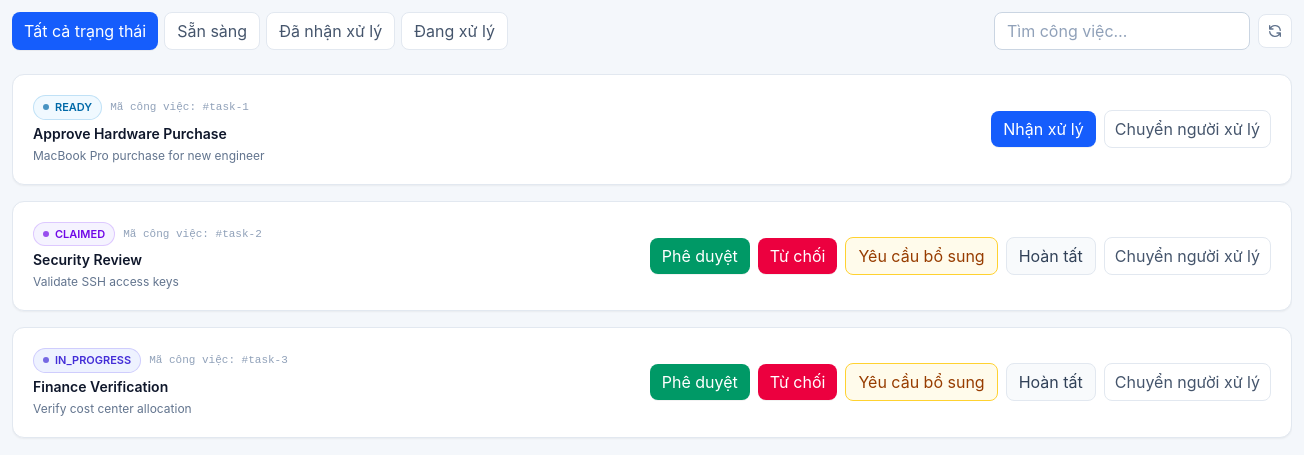
TaskInbox Component › filters tasks by status tabs (READY, CLAIMED, IN_PROGRESS)
Expected: the heading "Approve Hardware Purchase" is shown, [33,124,227,142]
Expected: the heading "Security Review" is shown, [33,251,142,268]
# Click READY filter
Click the button with test id "filter-ready" at {"x": 212, "y": 31}, box [164,12,260,50]
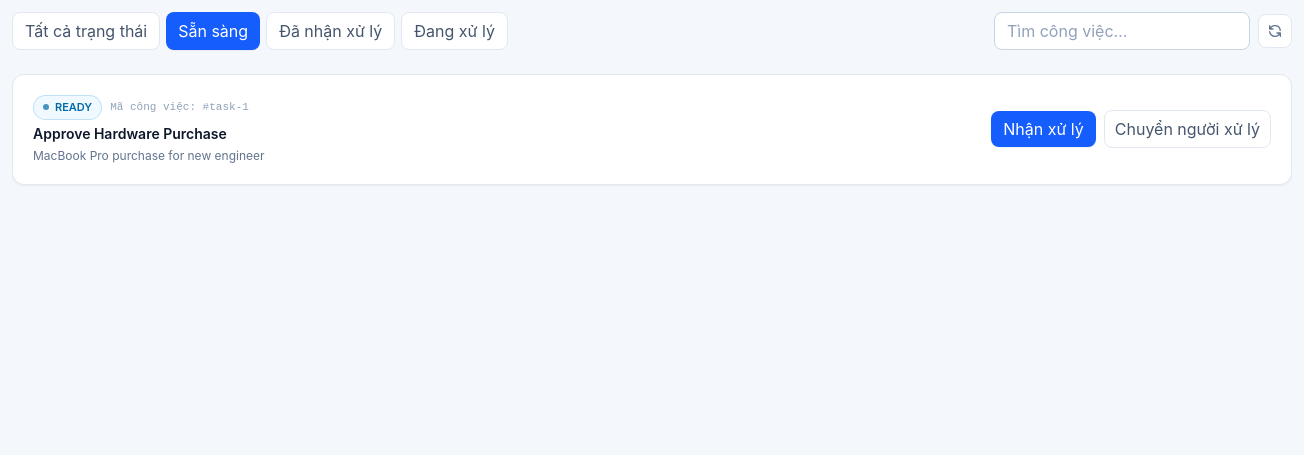
Expected: the heading "Approve Hardware Purchase" is shown, [33,124,227,142]
Result: the heading "Security Review" is gone
Result: the heading "Finance Verification" is gone
# Click CLAIMED filter
Click the button with test id "filter-claimed" at {"x": 331, "y": 31}, box [266,12,395,50]
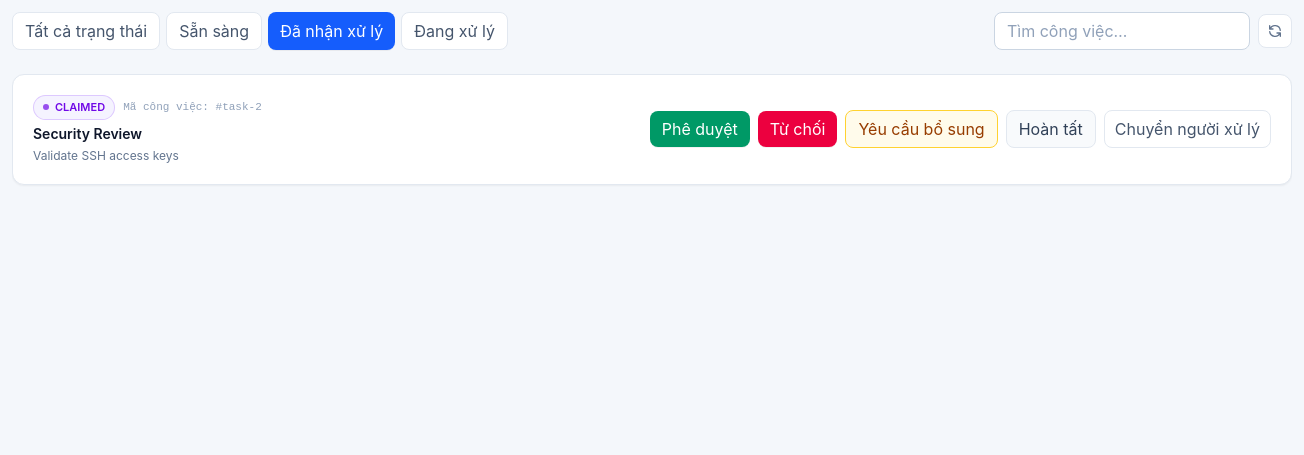
Result: the heading "Approve Hardware Purchase" is gone
Result: the heading "Security Review" is shown at [33,124,142,142]
